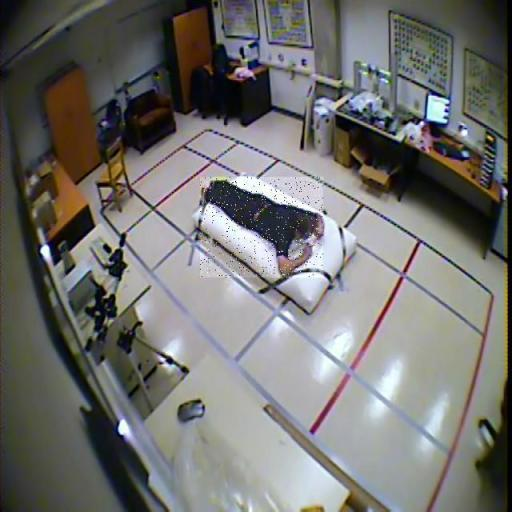Fall: (200, 177, 323, 278)
